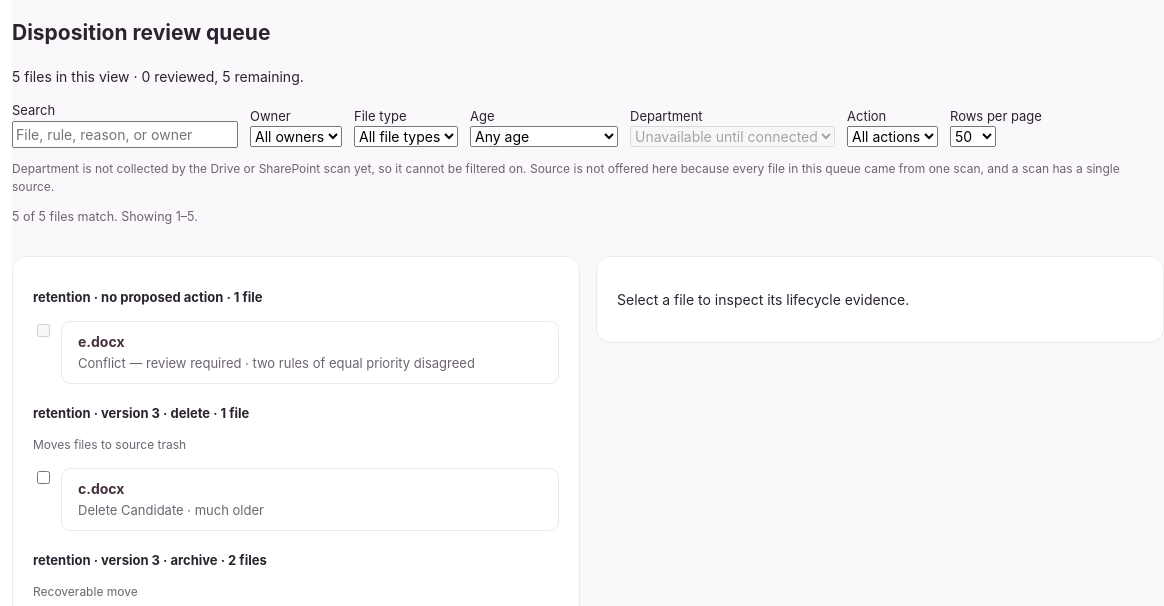
Scenario: the approve panel states what recovery would mean › names the source behaviour and its window when the source is known
Click the checkbox named "Select c.docx for batch approval". click: (44, 478)
box: 37,471 -> 50,484
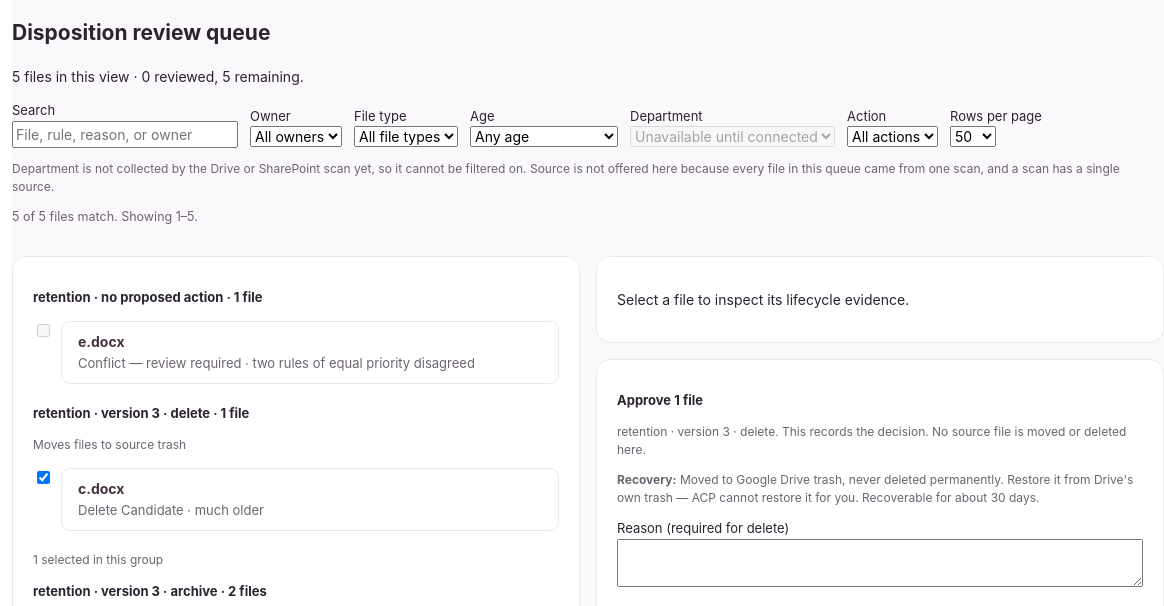
Check: the text "Recovery:" is shown, box 617,472 -> 676,487
Check: the text "Google Drive trash" is shown, box 617,472 -> 1133,505
Check: the text "Recoverable for about 30 days" is shown, box 617,472 -> 1133,505
